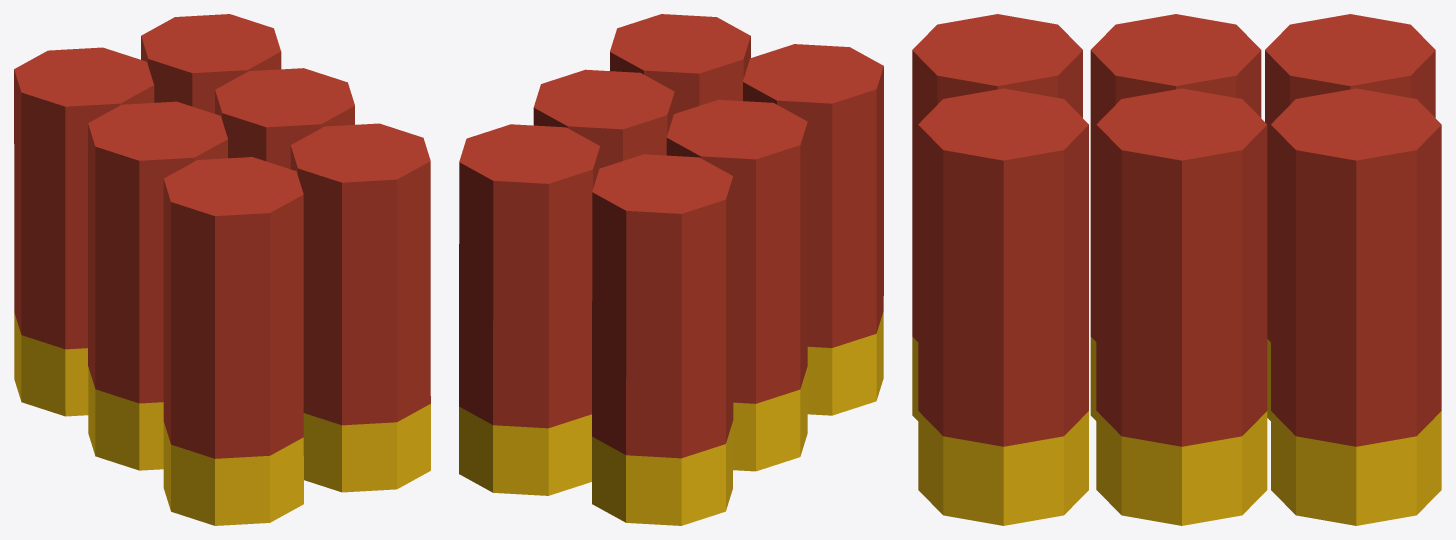
File: ShotgunAmmo_3D.glb
3 views of the same model, side by side, from view 1: azimuth 30°, elevation 25°; view 2: azimuth 150°, elevation 25°; view 3: azimuth 270°, elevation 25° (orthographic). The views are drawn at different scales.
Visible parts, largest first — view 1: shotgunCasingPack; view 2: shotgunCasingPack; view 3: shotgunCasingPack.
Boxes of the visible parts, x1,y1,x2,y2 form: shotgunCasingPack: [14, 14, 430, 525]; shotgunCasingPack: [459, 14, 883, 525]; shotgunCasingPack: [912, 14, 1441, 525].
Size of the model in its own units: 0.1057 by 0.1226 by 0.1611.
Materials: 1 (1 with a texture image).
